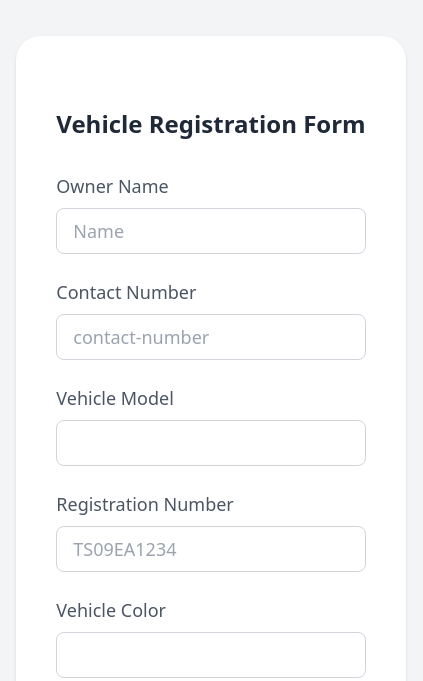
Test: Vehicle registeration component › Should return error if contact number not have length 10
Type "987" into the field with placeholder "contact-number" at (211, 337), box [56,314,366,360]
(page scrolled)
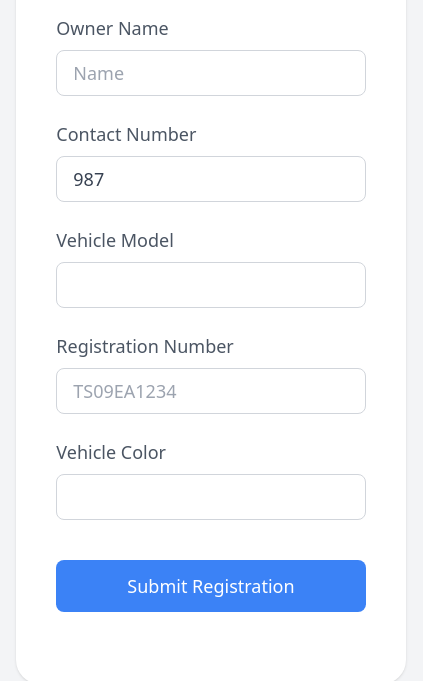
Click the button at (211, 586), box [56,560,366,612]
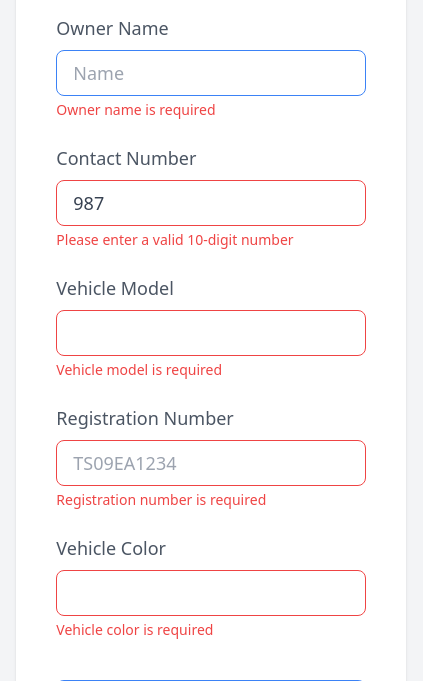
Expected: the text "Please enter a valid 10-digit number" is shown, [56,230,294,249]
